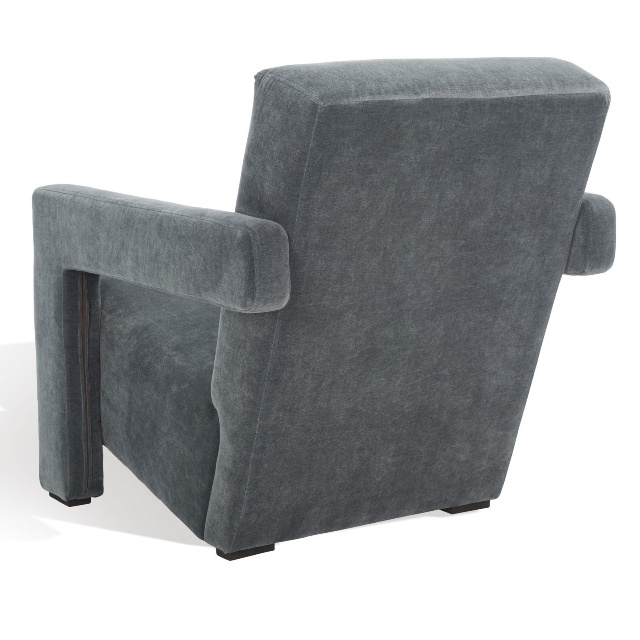obstacle: (33, 58, 614, 558)
